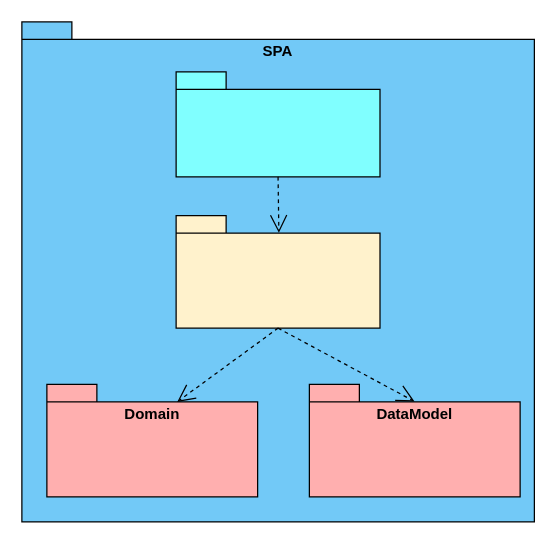
Some shapes in this 556 by 544 pixel diagram are drawn without their labels. The shapes that lost their labels are listed below. From the top down, each one's centre as x and y in pixels, then its label:
At [277,124]: "App".
At [277,271]: "ServiceInfo".
